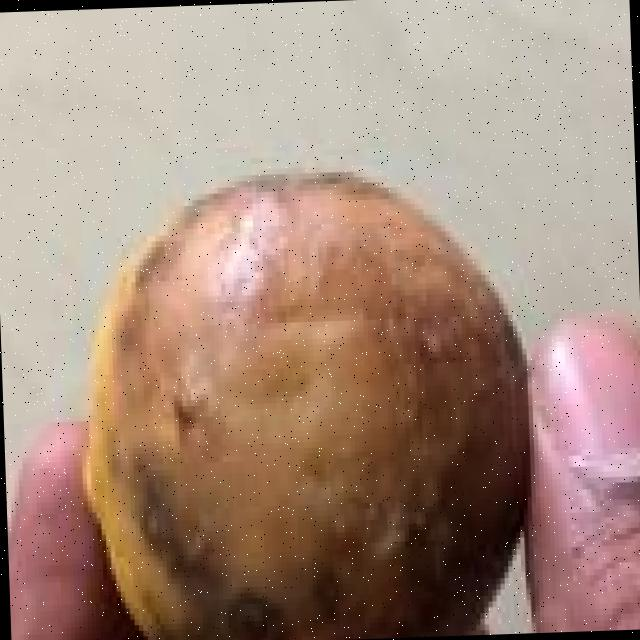Bad_Lime-0-1-day: (83, 165, 535, 640)
